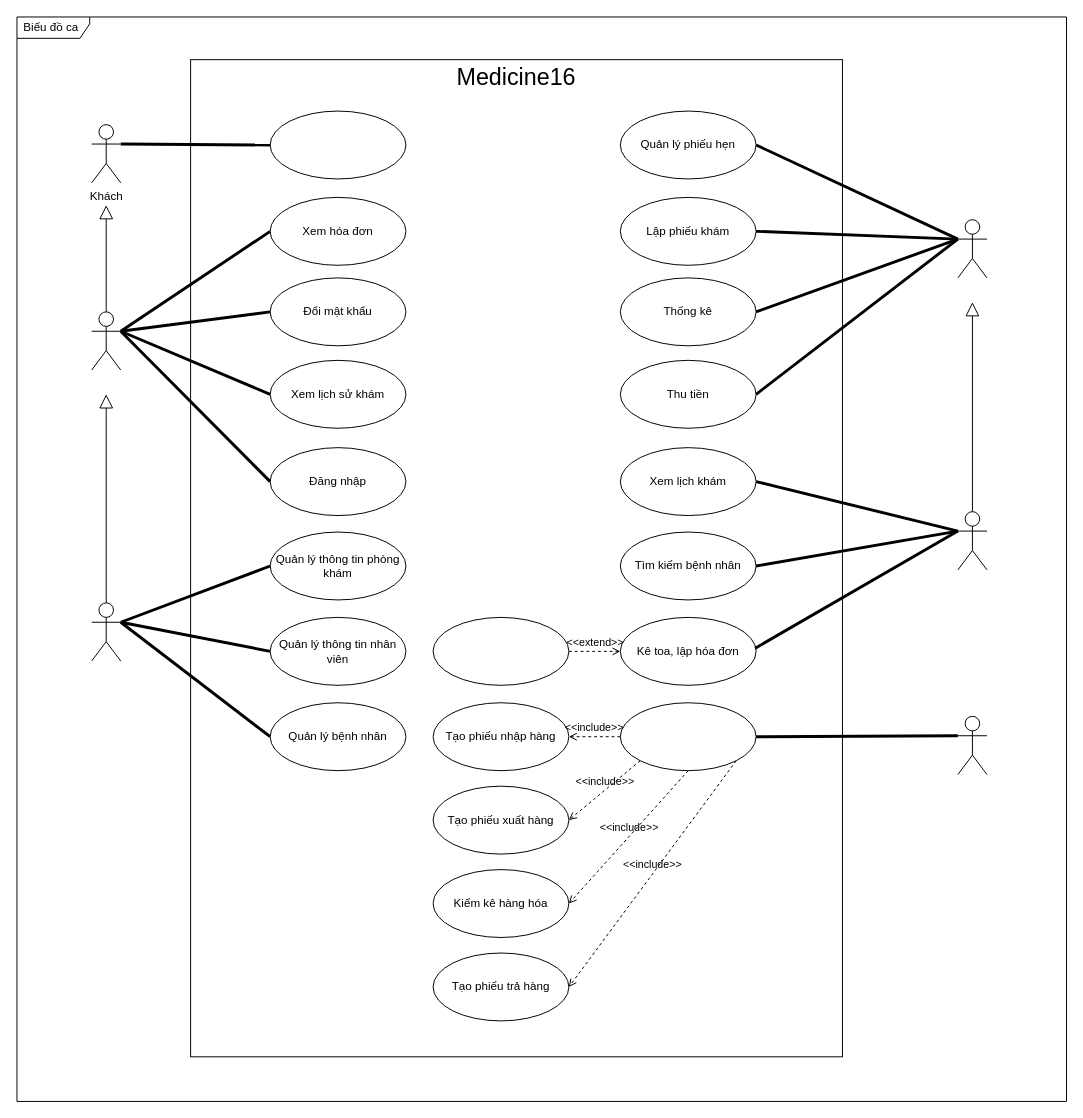
This 1083x1118 diagram has some shape labels left out. The centre of each missing label's shape, as x and y in pixels:
Bác sĩ: [972,540]
Bệnh nhân: [106,340]
In hóa đơn: [500,650]
Quản lý kho: [687,736]
Quản trị viên: [106,631]
Thủ kho: [972,745]
Xem thông tin phòng khám: [337,144]
Y tá: [972,248]
